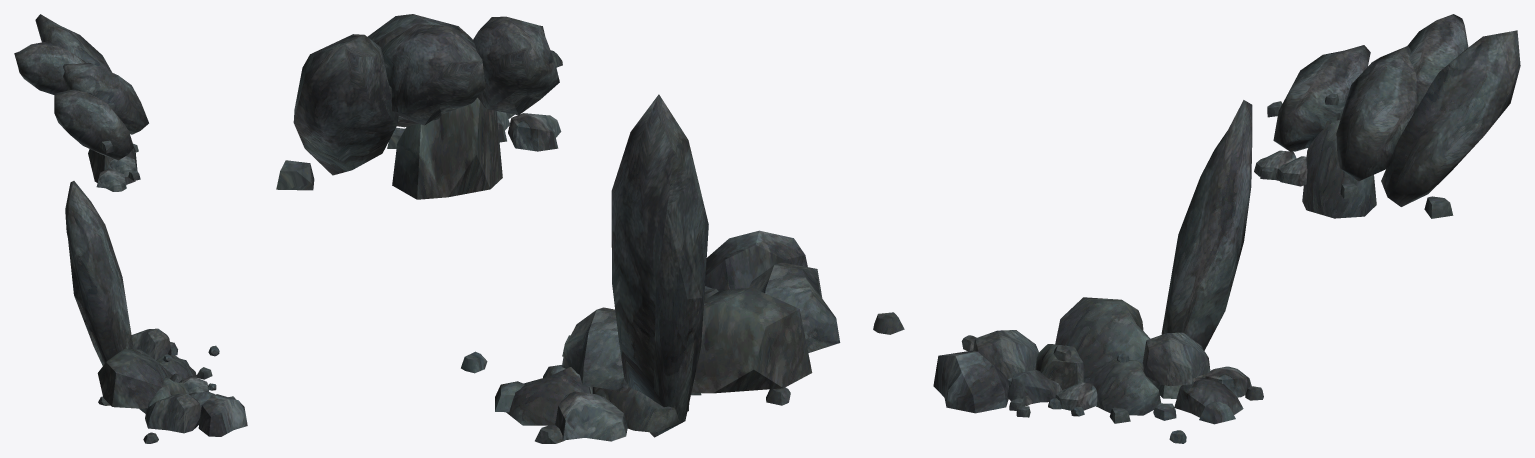
Rendered from menu_town_rubble_05.fbx.
The picture shows the model from 3 angles, left to right: view 1: azimuth 30°, elevation 25°; view 2: azimuth 150°, elevation 25°; view 3: azimuth 270°, elevation 25°; orthographic projection. The views are drawn at different scales.
Visible parts, largest first — view 1: menu_town_rubble_05-0; view 2: menu_town_rubble_05-0; view 3: menu_town_rubble_05-0.
Boxes of the visible parts, x1,y1,x2,y2 form: menu_town_rubble_05-0: (14,14,247,443); menu_town_rubble_05-0: (276,14,904,443); menu_town_rubble_05-0: (933,14,1520,443).
Bounding box in the file's own units: 9 × 15.67 × 21.38.
